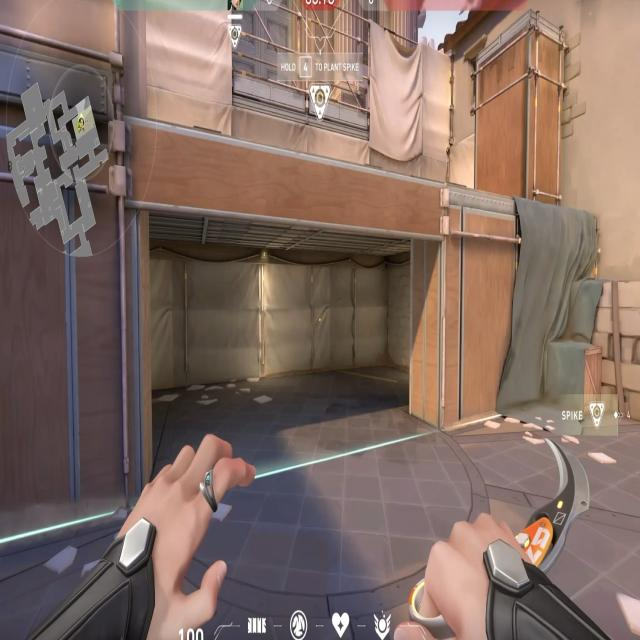A_Heaven_Box: (474, 8, 577, 209)
A_Hell: (54, 127, 476, 456)
